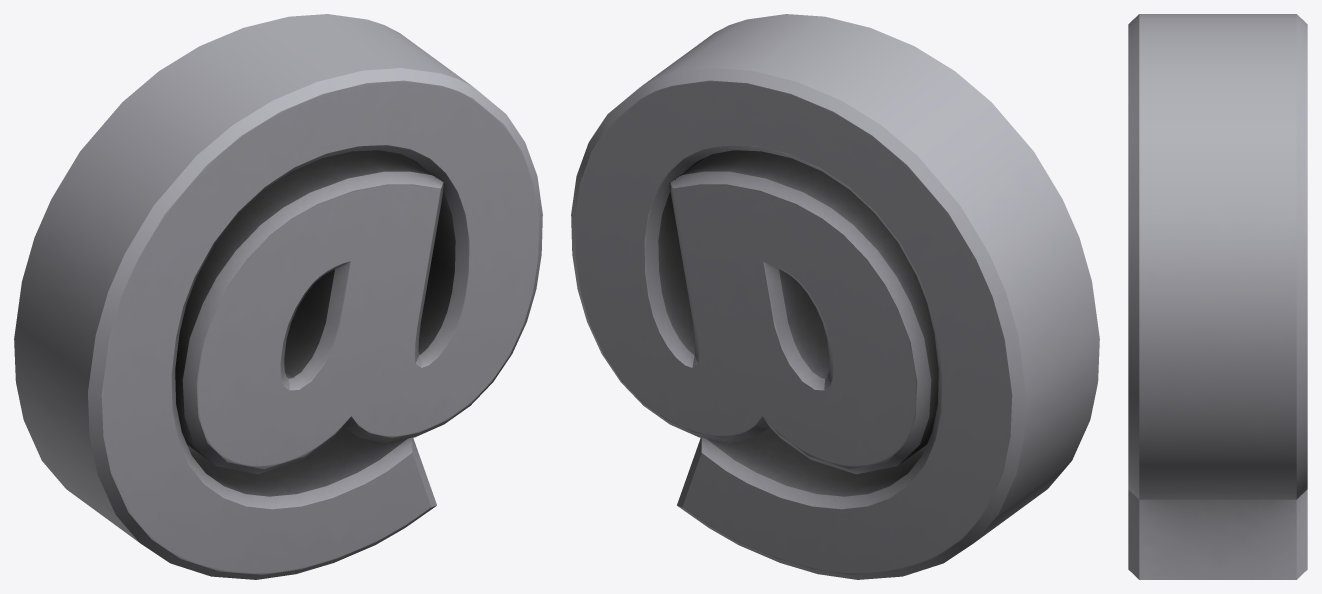
3 views of the same model, side by side, from view 1: azimuth 30°, elevation 25°; view 2: azimuth 150°, elevation 25°; view 3: azimuth 270°, elevation 25° (orthographic). The views are drawn at different scales.
Parts seen in each view (by area): view 1: At; view 2: At; view 3: At.
Part boxes in pixels (left/top/right/bottom): At: left=14, top=14, right=542, bottom=579; At: left=571, top=14, right=1099, bottom=579; At: left=1128, top=14, right=1307, bottom=579.
Bounding box in the file's own units: 103 × 106 × 33.
